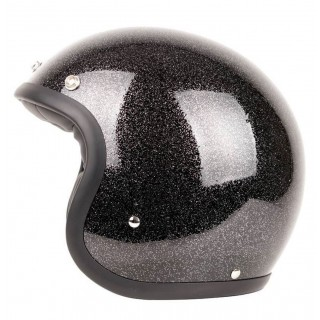with_helmet: (10, 25, 305, 295)
